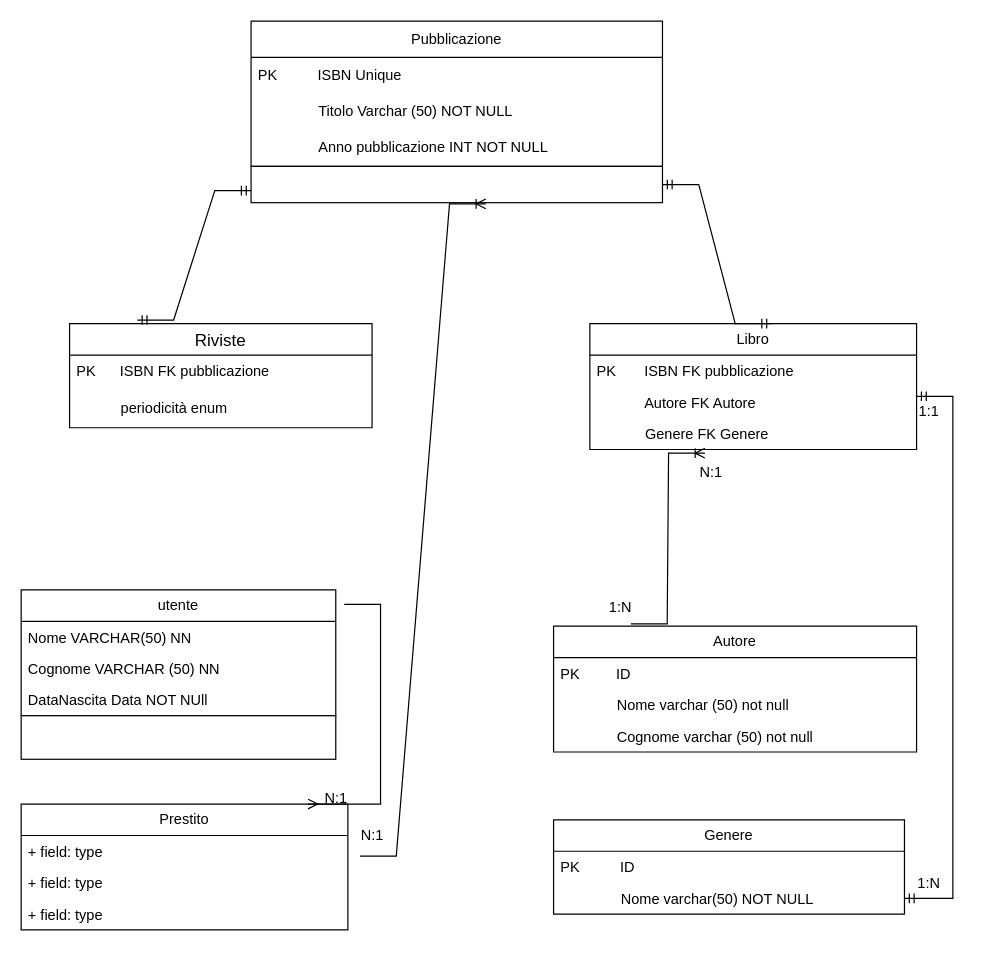
Some shapes in this 985 by 955 pixel diagram are drawn without their labels. Each missing label, with the centre of its shape:
N Pagine INT NOT NULL: [456,184]
Utente ID PK: [178,737]
